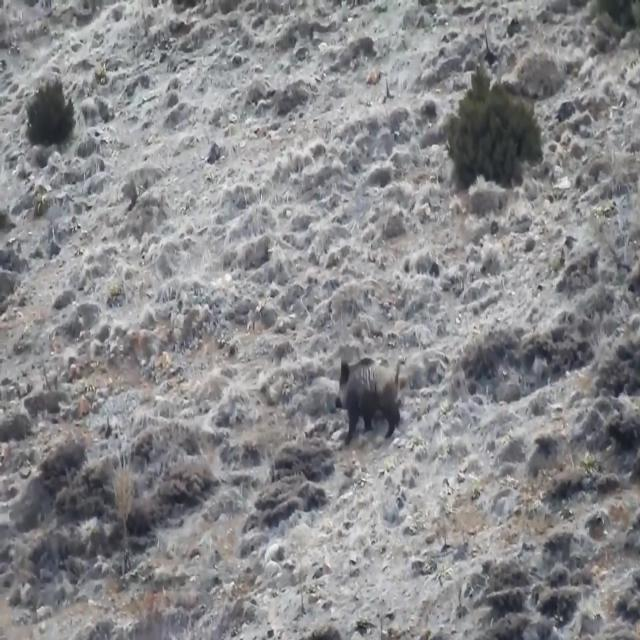pig: (316, 307, 414, 453)
